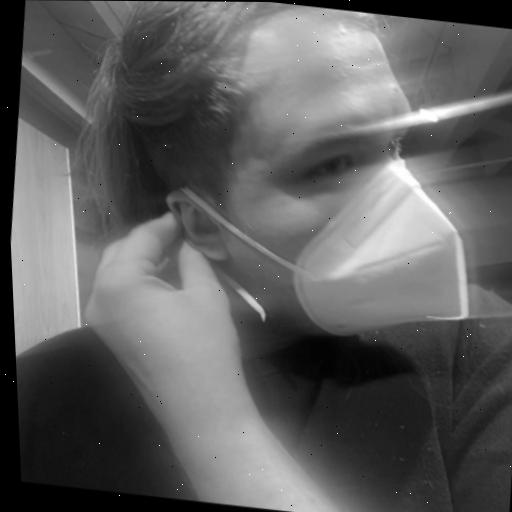mask: (90, 1, 512, 346)
